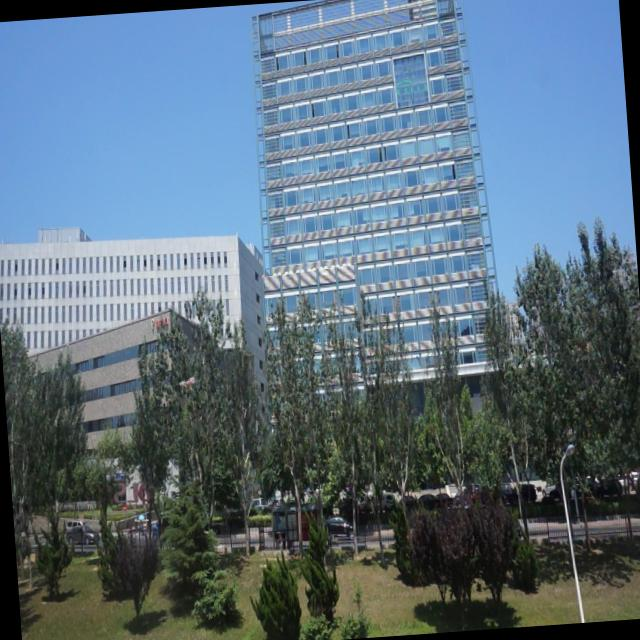drone: (176, 370, 199, 396)
